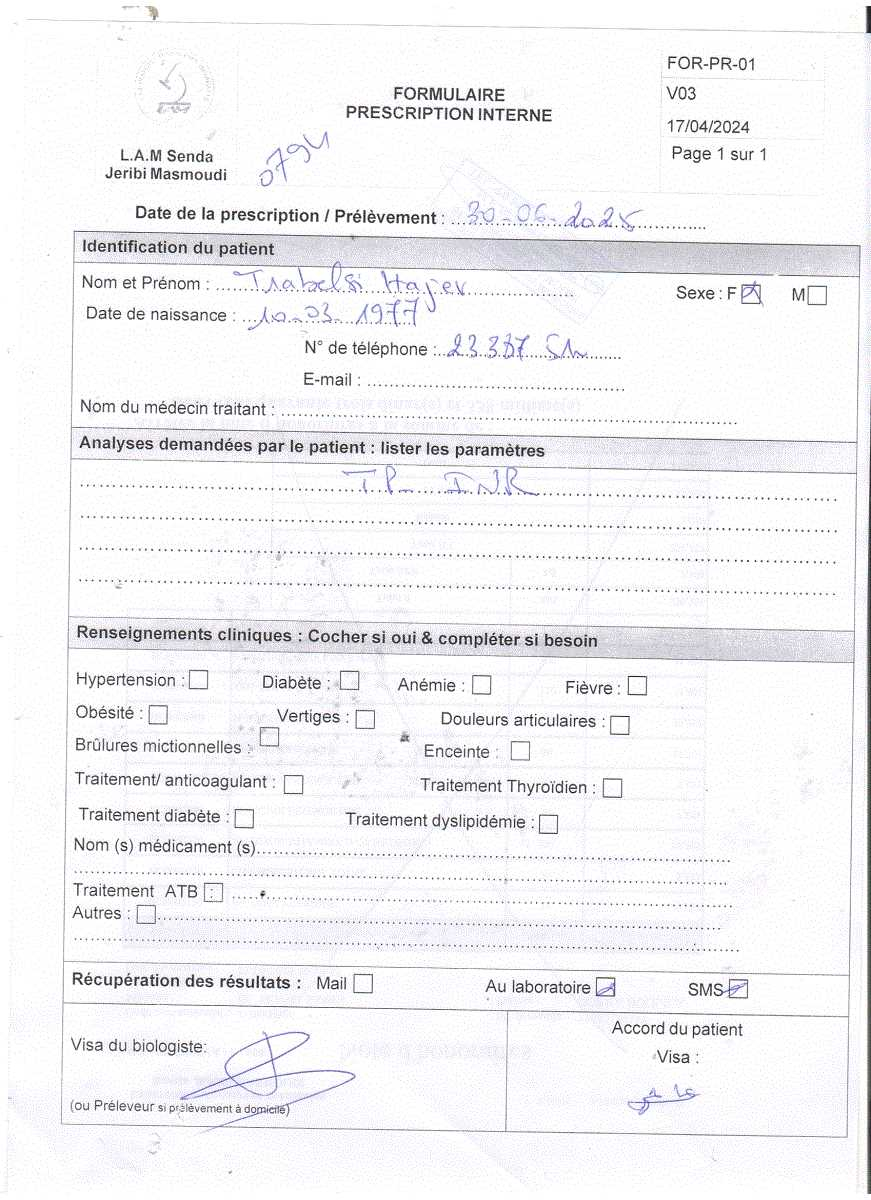zone_analyses: (74, 426, 611, 535)
zone_patient: (131, 196, 662, 235)
zone_prescripteur: (74, 231, 862, 401)
